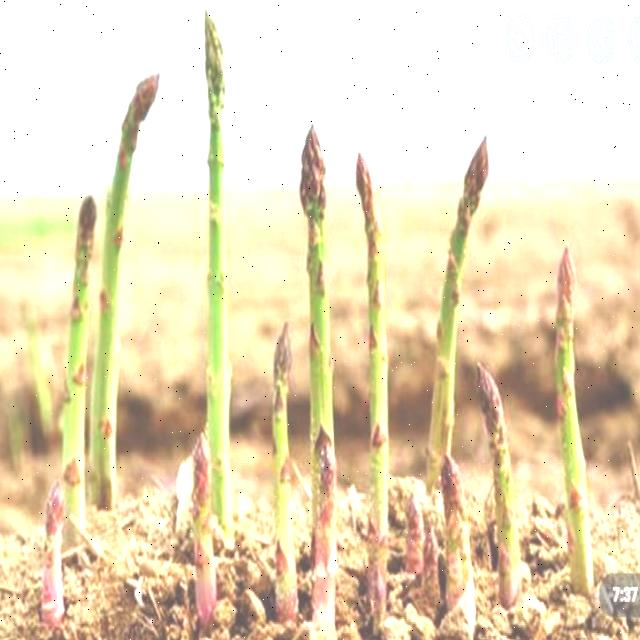aspargus: (88, 75, 162, 513), (429, 135, 491, 475), (302, 128, 334, 626), (204, 11, 233, 529), (555, 248, 595, 604), (473, 364, 522, 618), (357, 154, 388, 533), (39, 478, 67, 633)
